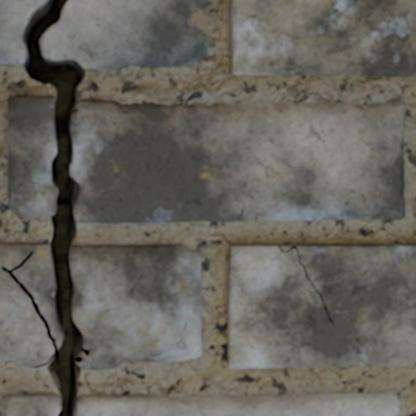brick: (228, 244, 415, 367), (231, 0, 415, 76), (281, 245, 291, 249)
broken_brick: (71, 98, 407, 223), (71, 244, 202, 370), (42, 0, 207, 70), (77, 388, 399, 415), (0, 242, 61, 345), (7, 95, 56, 220), (0, 270, 53, 367), (0, 0, 42, 64), (0, 392, 59, 415)
crack: (0, 0, 94, 415), (277, 244, 334, 325), (111, 101, 118, 104)
